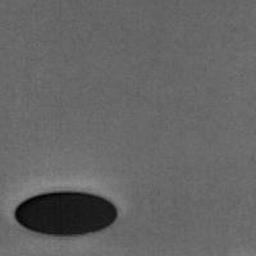Punching: (15, 192, 116, 237)
